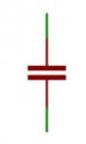Capacitor: (19, 50, 70, 95)
